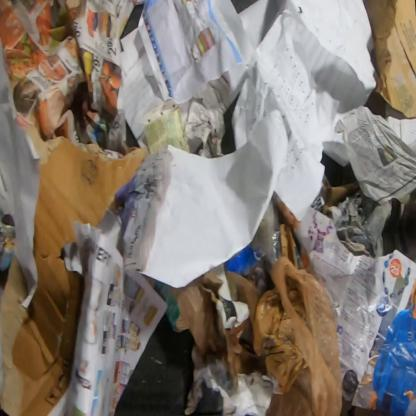cardboard: (0, 126, 151, 415), (145, 262, 261, 391), (361, 0, 415, 120), (254, 287, 309, 391), (275, 202, 306, 267), (320, 180, 360, 214)
soft_plastic: (265, 254, 343, 415), (271, 230, 282, 260)
